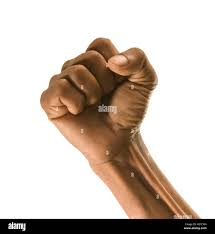closed: (40, 37, 159, 163)
